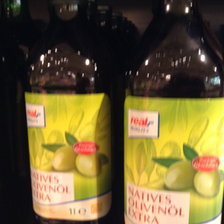oil: (121, 1, 223, 224), (24, 1, 114, 224)
